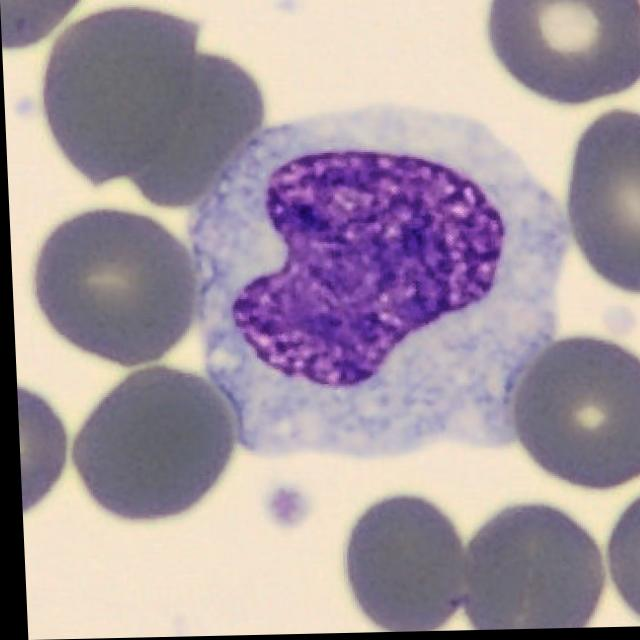Monocito: (189, 106, 552, 456)
